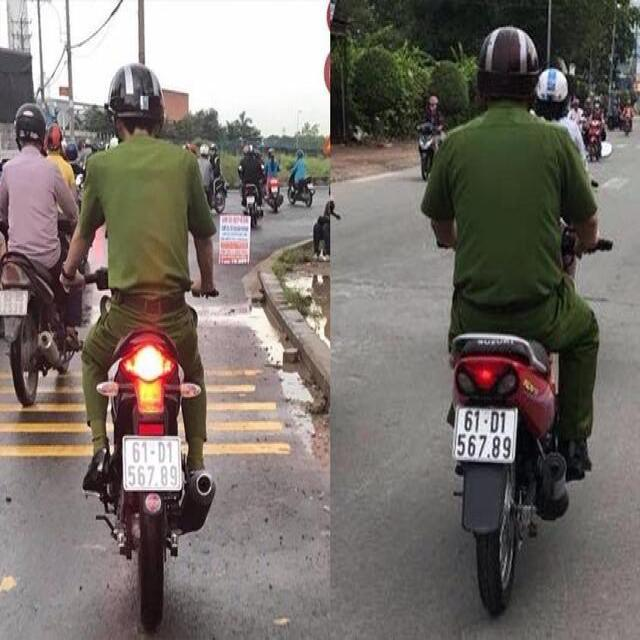motorcycle: (441, 313, 583, 627), (91, 316, 212, 636), (0, 240, 57, 420)
plate: (451, 397, 522, 469), (120, 430, 187, 498), (0, 285, 30, 321)
